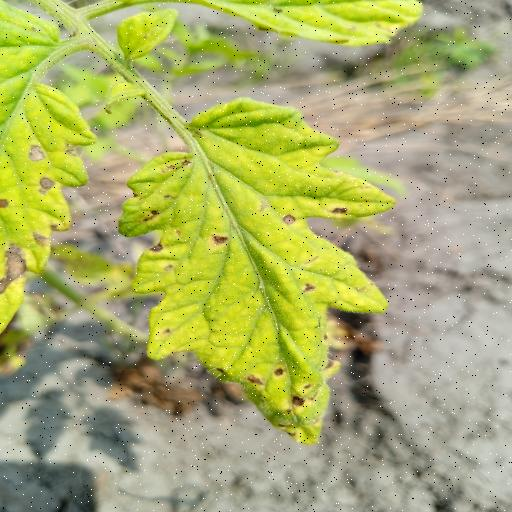Tomato_Brown_Spots: (109, 98, 405, 458)
